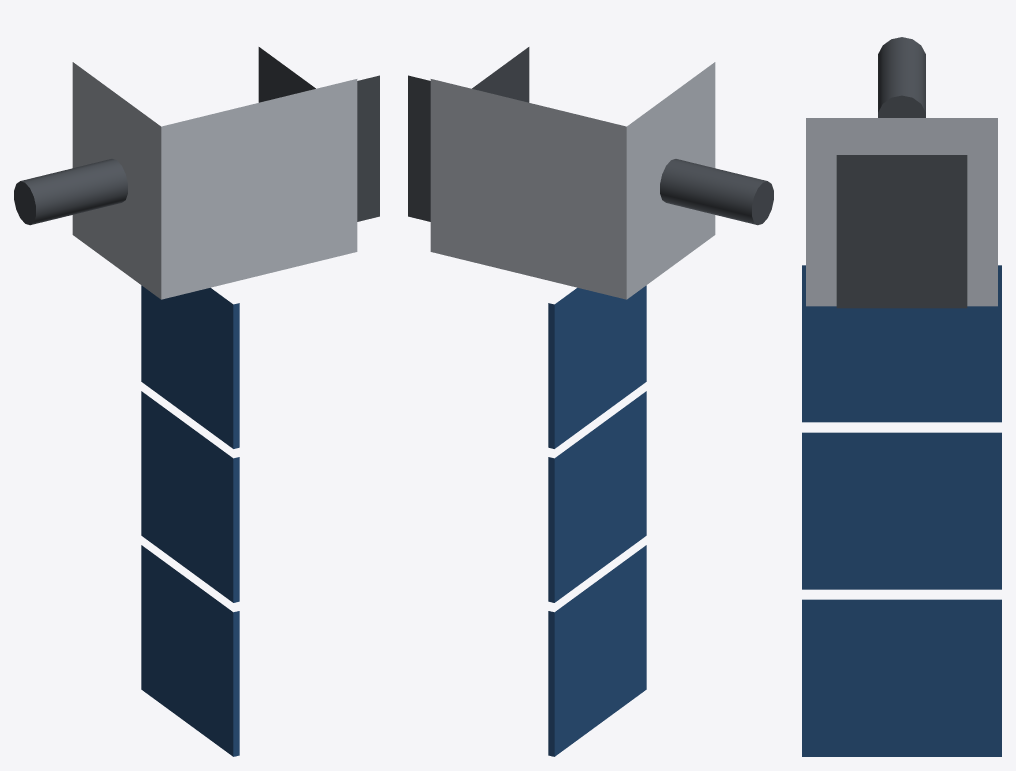
The picture shows the model from 3 angles, left to right: view 1: azimuth 30°, elevation 25°; view 2: azimuth 150°, elevation 25°; view 3: azimuth 270°, elevation 25°; orthographic projection. The views are drawn at different scales.
Size of the model in its own units: 5.3 by 10.08 by 2.6.
